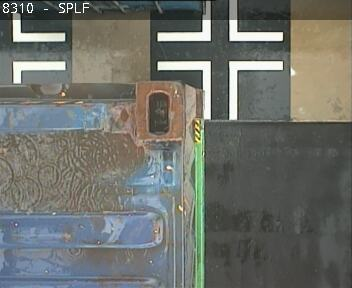groundmarker_1: (157, 59, 282, 119), (158, 1, 283, 41), (11, 12, 65, 84)
